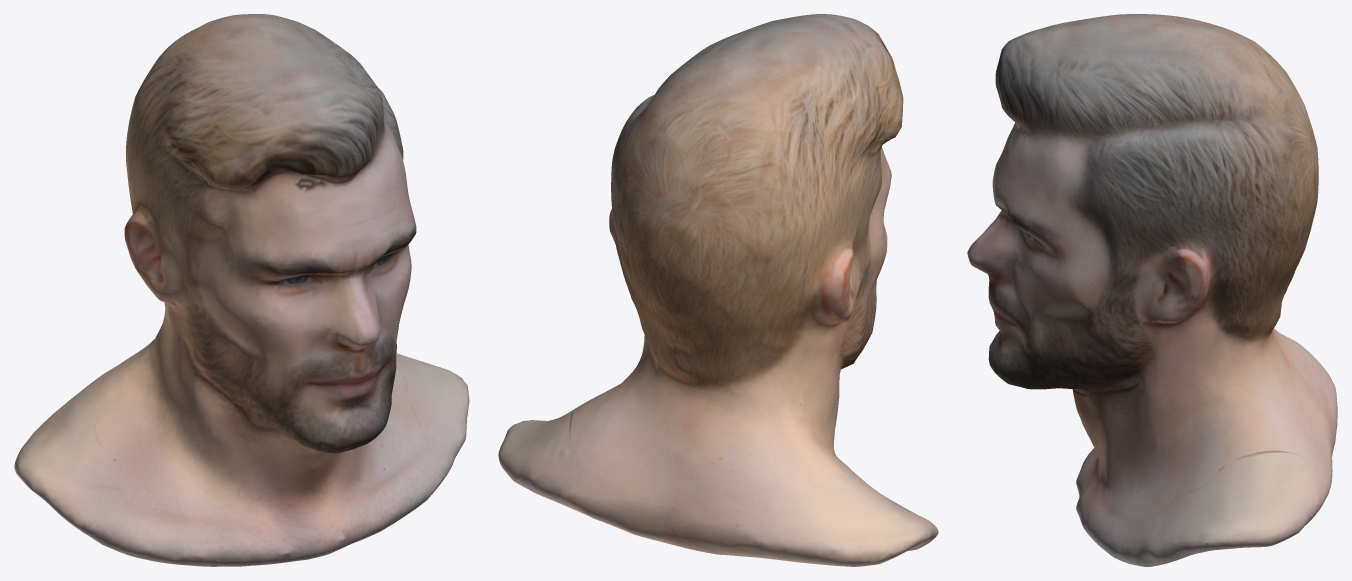
Rendered from face-man.glb.
3 views of the same model, side by side, from view 1: azimuth 30°, elevation 25°; view 2: azimuth 150°, elevation 25°; view 3: azimuth 270°, elevation 25° (orthographic). The views are drawn at different scales.
Size of the model in its own units: 1.07 by 1.2 by 0.8317.
1 material, 1 textured.
